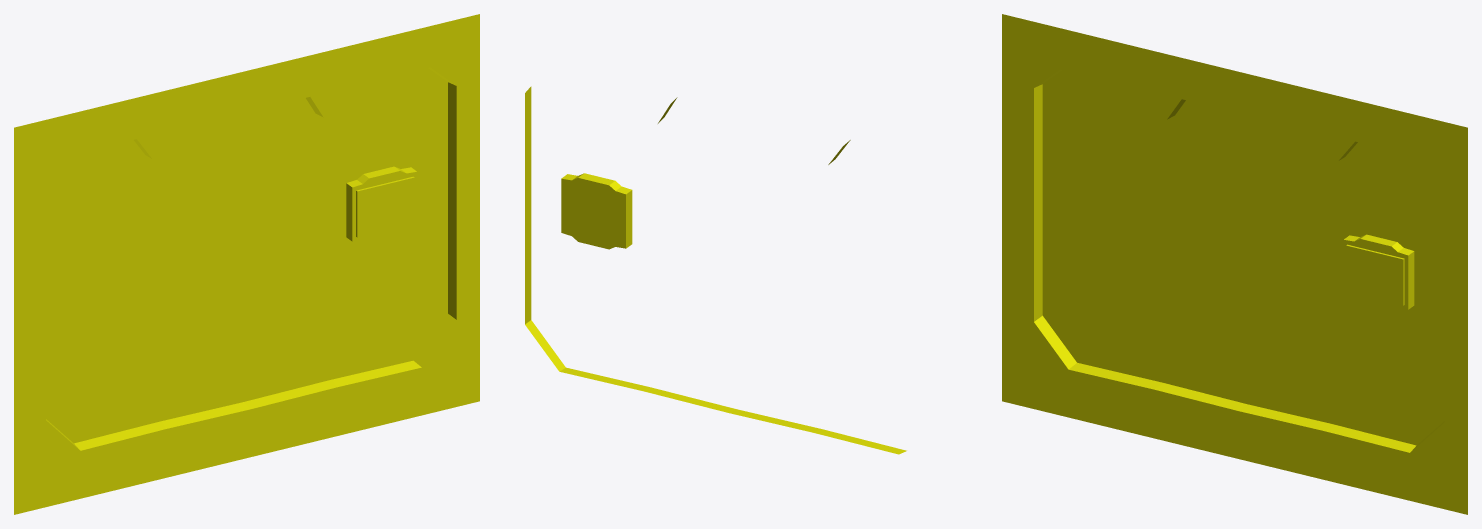
3 views of the same model, side by side, from view 1: azimuth 30°, elevation 25°; view 2: azimuth 150°, elevation 25°; view 3: azimuth 330°, elevation 25° (orthographic).
Visible parts, largest first — view 1: bg; view 2: bg; view 3: bg.
Boxes of the visible parts, left/top/right/bottom form: bg: left=14, top=14, right=479, bottom=514; bg: left=525, top=86, right=906, bottom=454; bg: left=1002, top=14, right=1467, bottom=514.
Size of the model in its own units: 15.88 by 12.62 by 0.4653.
Materials: 1 (1 with a texture image).
